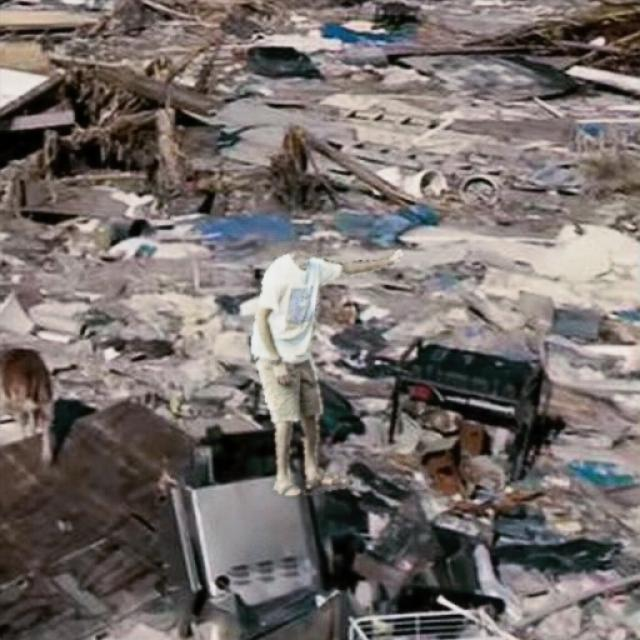Person in Rubble: (251, 248, 401, 494)
